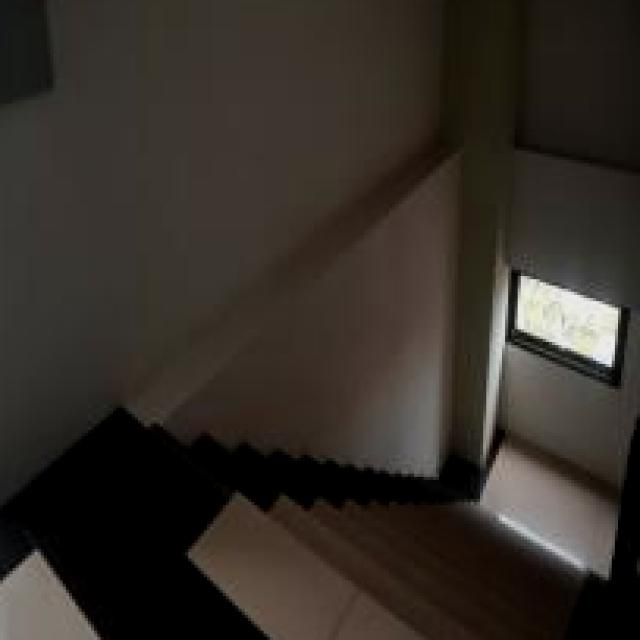downstair: (189, 443, 632, 640)
